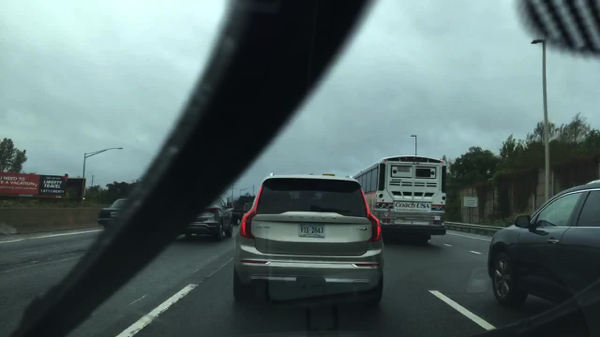bus: (346, 156, 447, 245)
car: (233, 172, 385, 310), (486, 179, 598, 309), (178, 196, 233, 240), (98, 198, 137, 234)
traffic sign: (463, 197, 476, 206)
truck: (232, 194, 260, 227)
